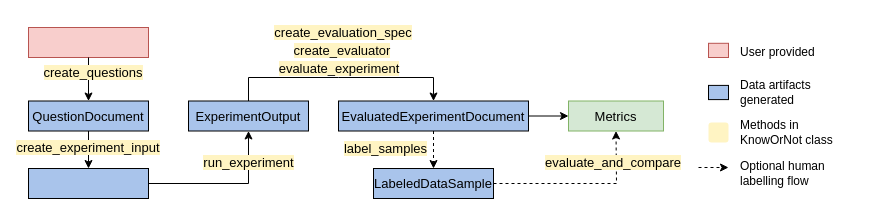
Image size: 876x216. Some labels were removed from this diagram. The shapes that lost their labels are listed below. From the top down, each one's centre as x and y in pixels, then its label:
At point 88,42: "Source documents".
At point 88,183: "ExperimentInput".
